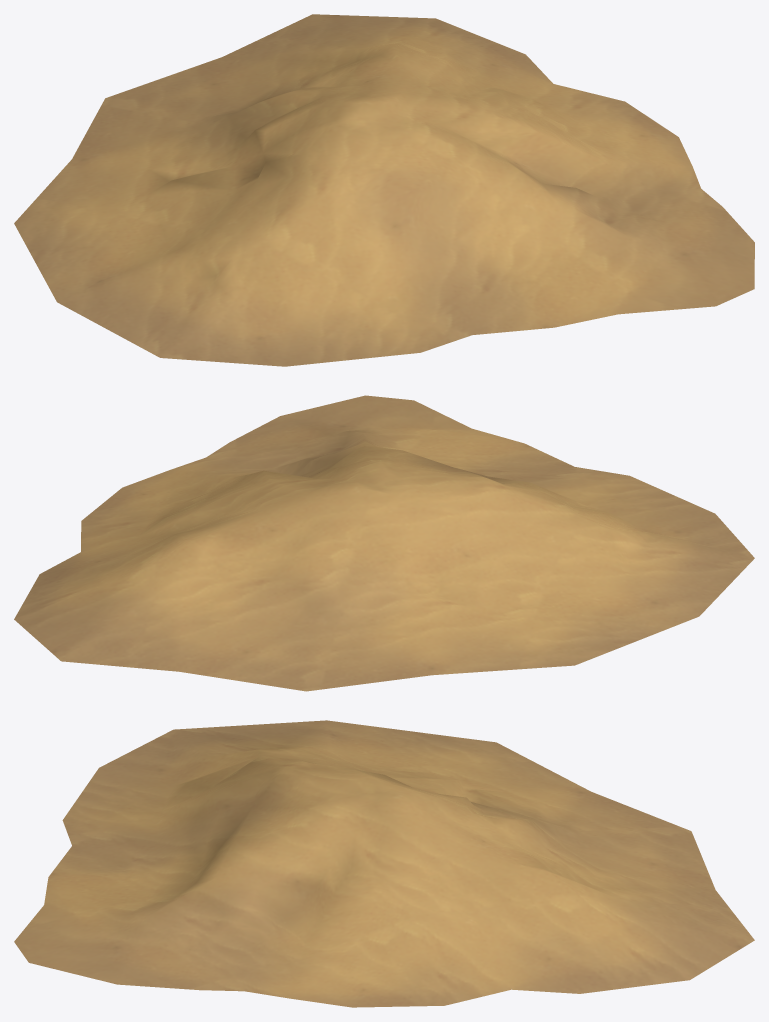
File: Area_14_6.fbx
The picture shows the model from 3 angles, top to bottom: view 1: azimuth 30°, elevation 25°; view 2: azimuth 150°, elevation 25°; view 3: azimuth 270°, elevation 25°; orthographic projection. The views are drawn at different scales.
Visible parts, largest first — view 1: Area_14_6; view 2: Area_14_6; view 3: Area_14_6.
Part boxes in pixels (x1,y1,x2,y2): Area_14_6: [14, 14, 754, 366]; Area_14_6: [14, 395, 754, 691]; Area_14_6: [14, 720, 754, 1007].
Bounding box in the file's own units: 5150 × 678 × 5615.
Materials: 1 (1 with a texture image).
